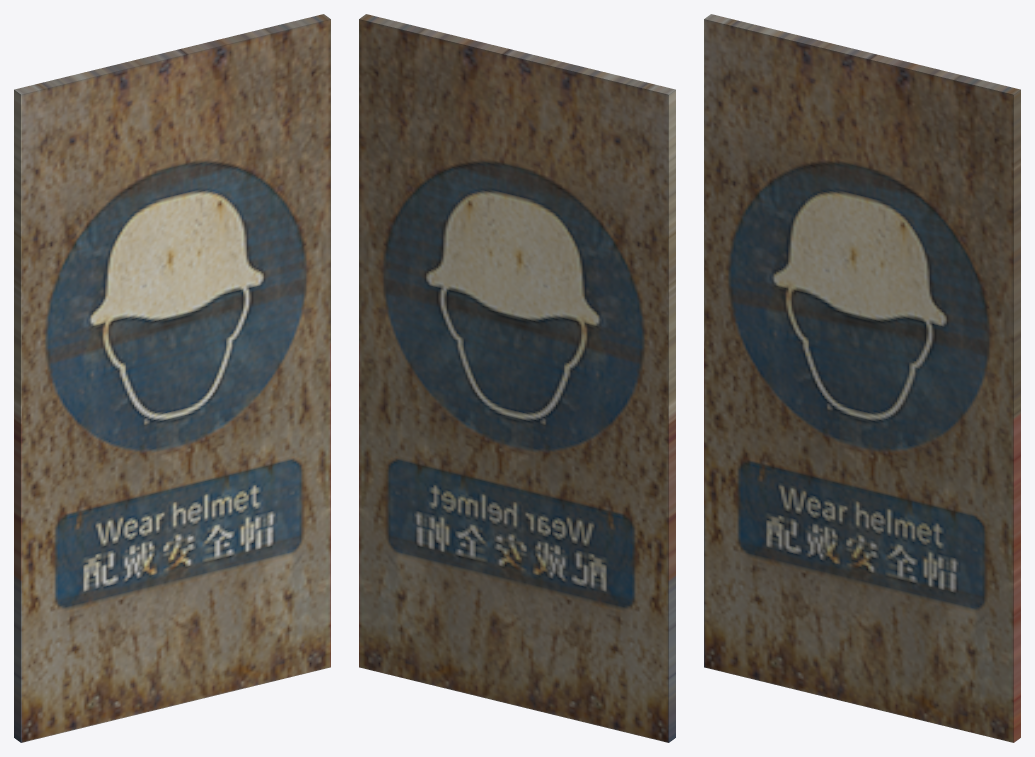
File: CT_Signs_24.fbx
3 renders of one model, left to right at view 1: azimuth 30°, elevation 25°; view 2: azimuth 150°, elevation 25°; view 3: azimuth 330°, elevation 25°, orthographic.
Visible parts, largest first — view 1: CT_Signs_24; view 2: CT_Signs_24; view 3: CT_Signs_24.
Boxes of the visible parts, x1=… form: CT_Signs_24: x1=14, y1=14, x2=330, y2=742; CT_Signs_24: x1=359, y1=14, x2=675, y2=742; CT_Signs_24: x1=704, y1=14, x2=1020, y2=742.
Bounding box in the file's own units: 64 × 128 × 2.5.
